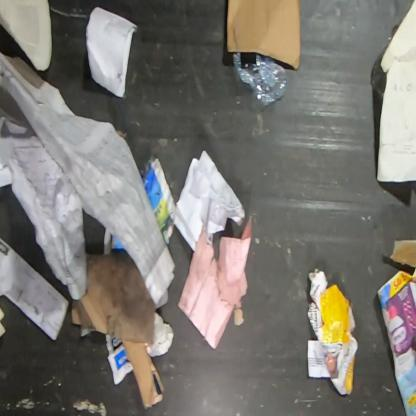cardboard: (70, 250, 164, 406), (307, 266, 358, 395), (226, 0, 301, 70), (389, 235, 415, 301)
rigid_plastic: (232, 52, 287, 108)
